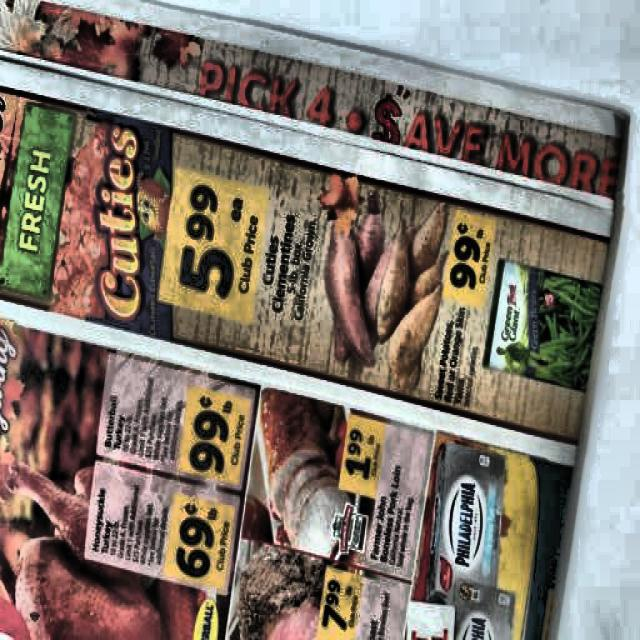paper: (0, 0, 627, 624)
